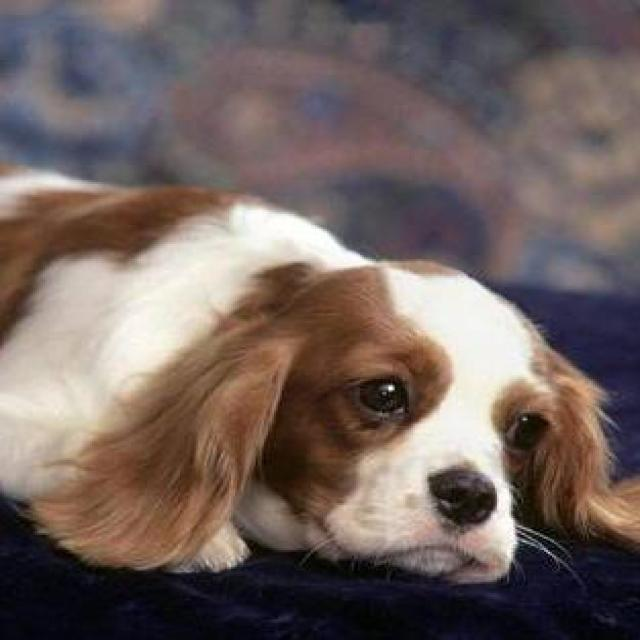blenheim_spaniel: (0, 156, 636, 580)
